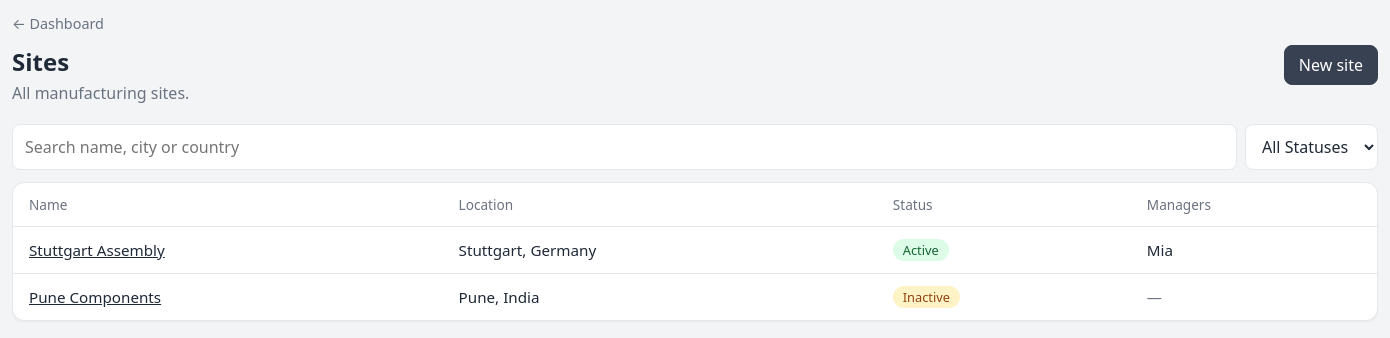
SitesPage › filters by search text and by status
This screenshot has width=1390, height=338.
Expected: the link "Pune Components" is shown, top-left (29, 287), bottom-right (161, 307)
Type "india" into the search field named "Search sites" at (624, 147), box top-left (12, 124), bottom-right (1237, 170)
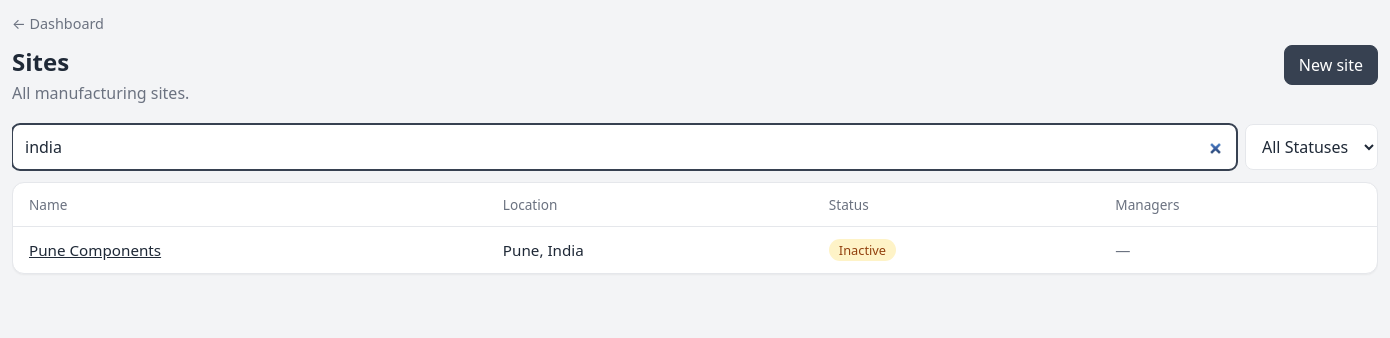
Expected: the link "Pune Components" is shown, top-left (29, 240), bottom-right (161, 260)
Result: the link "Stuttgart Assembly" is gone
Clear the search field named "Search sites" at (624, 147), box top-left (12, 124), bottom-right (1237, 170)
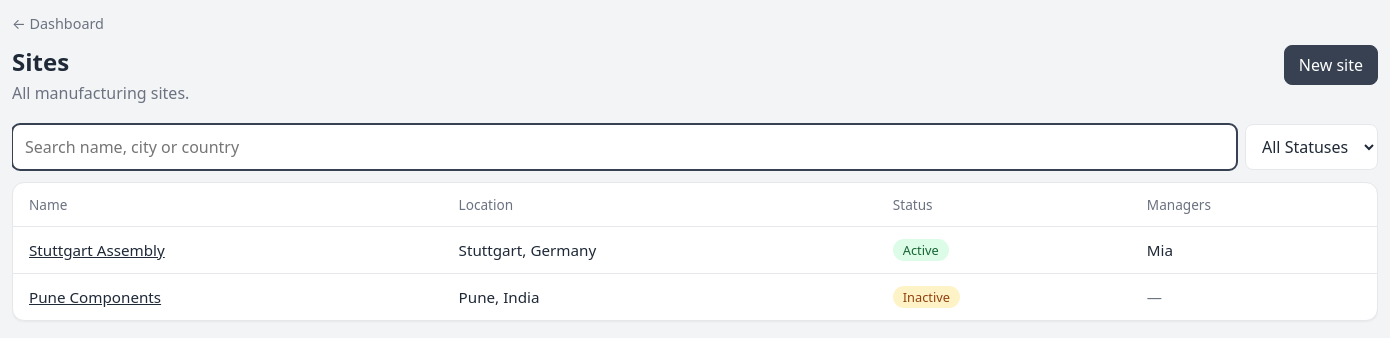
Select "active" in the dropdown named "Status" at (1312, 147), box top-left (1245, 124), bottom-right (1378, 170)
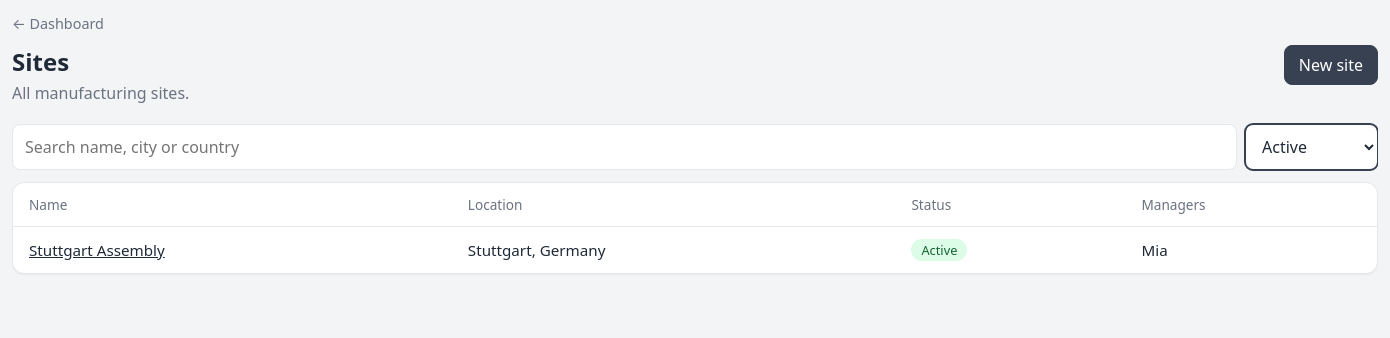
Result: the link "Stuttgart Assembly" is shown at top-left (29, 240), bottom-right (165, 260)
Result: the link "Pune Components" is gone
Select "closed" in the dropdown named "Status" at (1312, 147), box top-left (1245, 124), bottom-right (1378, 170)
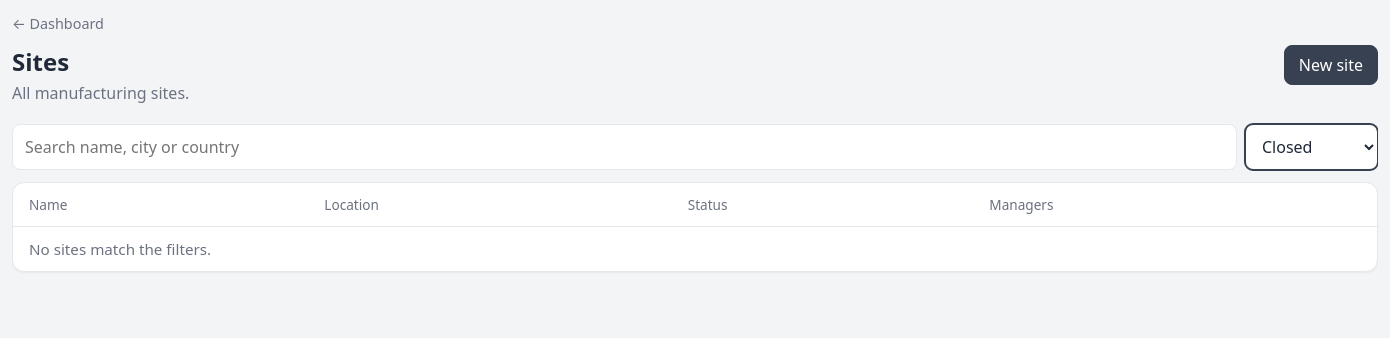
Result: the text "No sites match the filters." is shown at top-left (13, 226), bottom-right (1377, 271)
